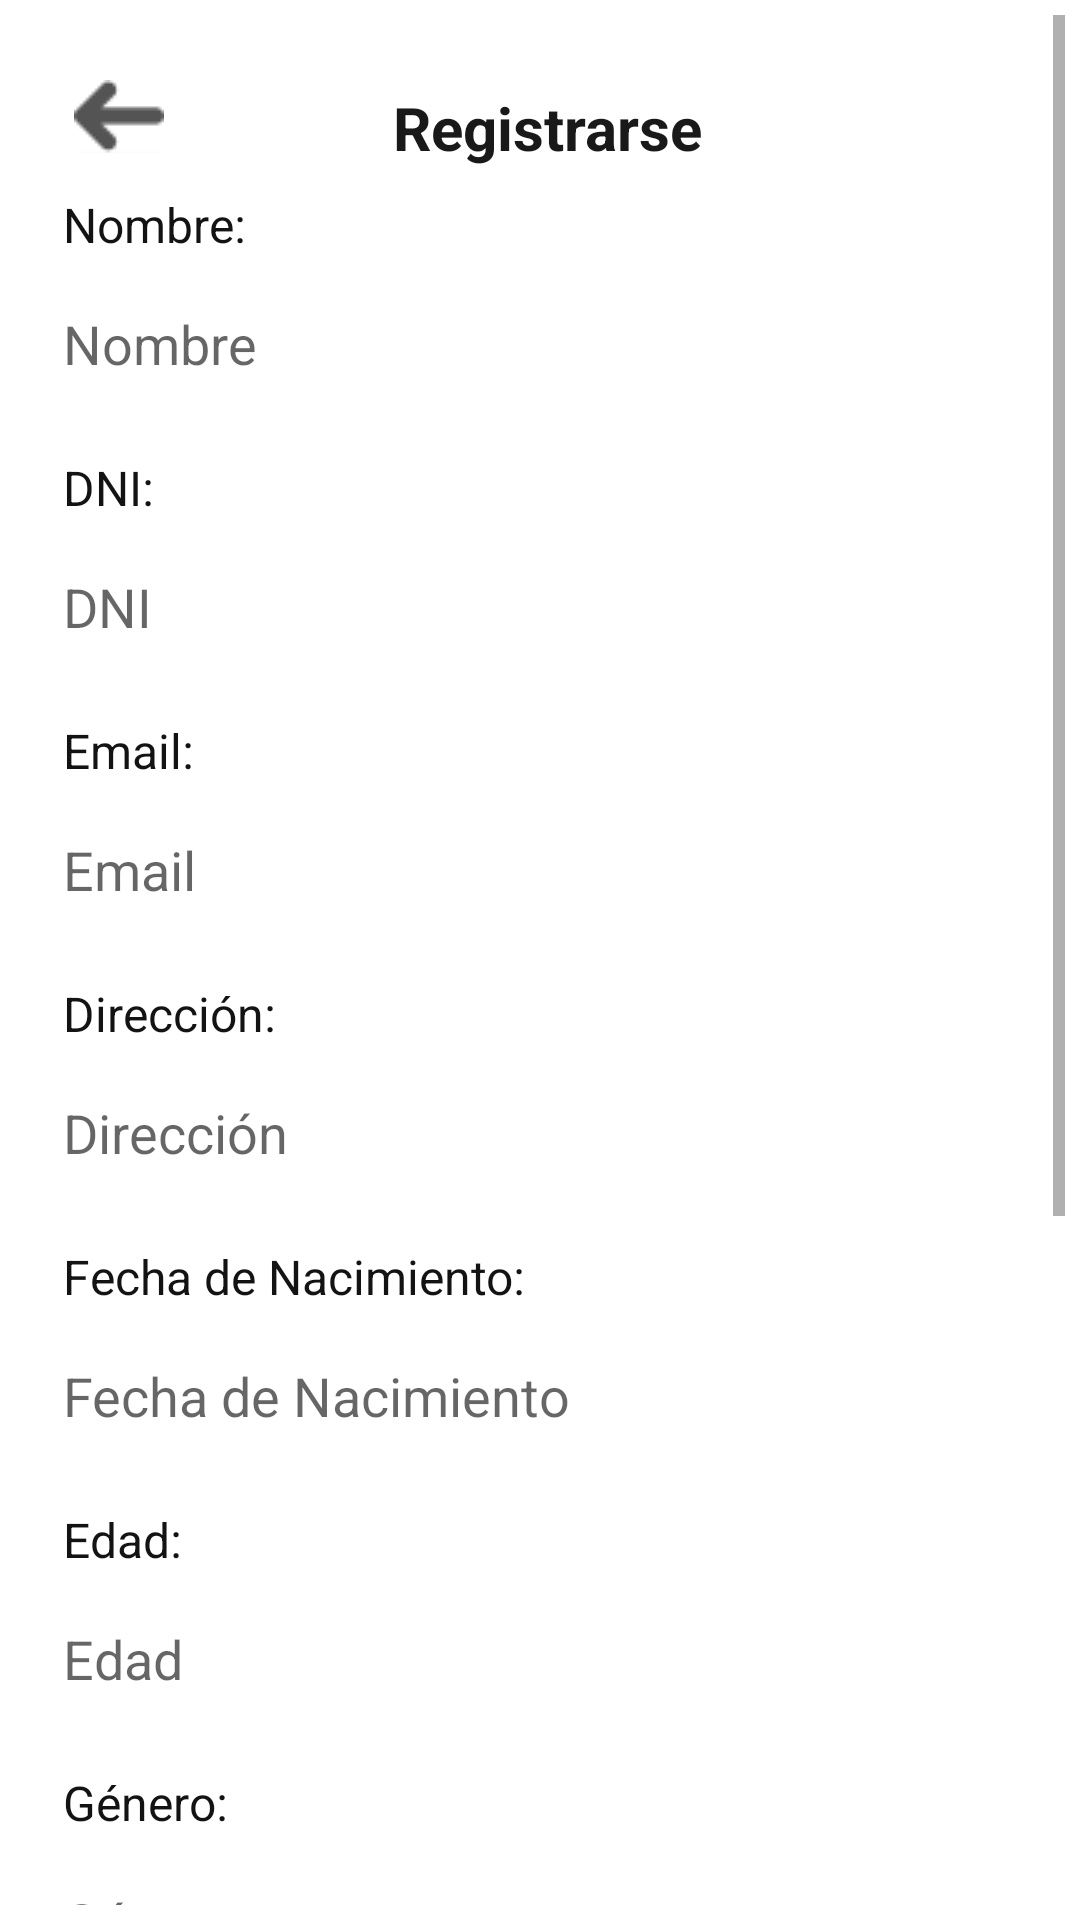

Screen size 1080 × 1920. Icon name, then its box in pixels as (x1, y1, x2, y2):
flecha: (74, 80, 164, 152)
